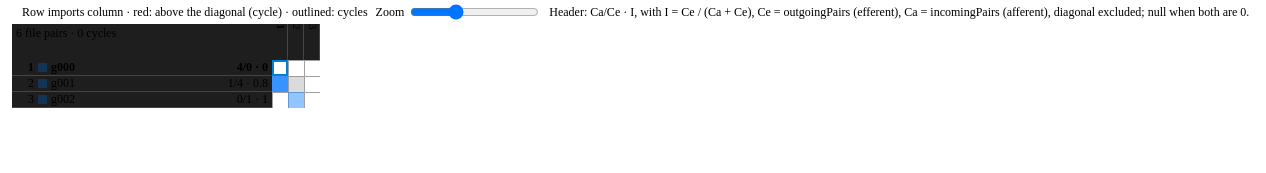
it: ArchitectureMatrix › labels each cell for screen readers, writes counts once zoomed in, and states the formula
The width and height of the screenshot is (1266, 173).
Check: the button named "g001 imports g000: 4 file pairs" is empty, box [272,76,288,92]
Check: the button named "g001: 1 file pair inside" is shown, box [288,76,304,92]
Set the slider labelled "Zoom" to "3" at (531, 12), box [410,4,539,20]
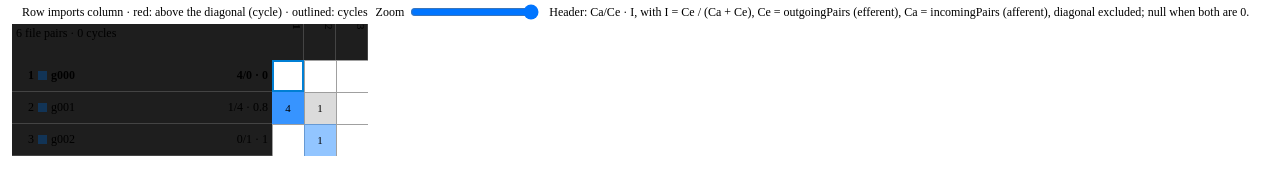
Check: the text "I = Ce / (Ca + Ce)" is shown, box [664,4,1249,18]
Check: the button named "g001 imports g000: 4 file pairs" reads "4", box [272,92,304,124]
